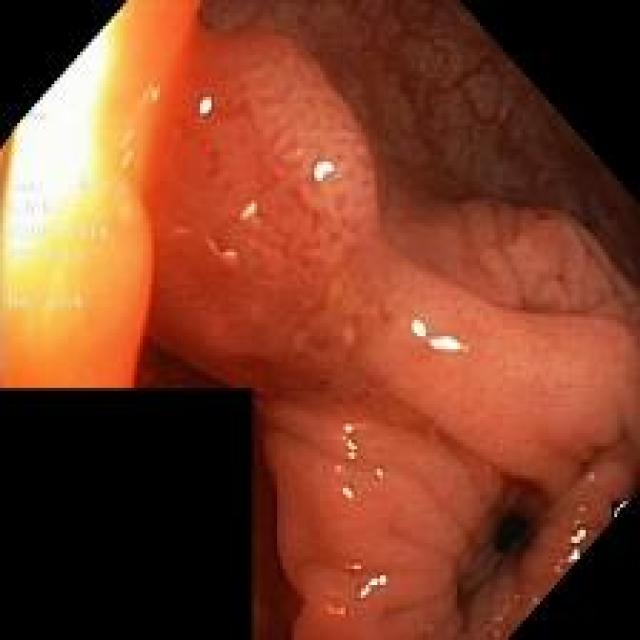Polyps: (207, 34, 383, 242)
